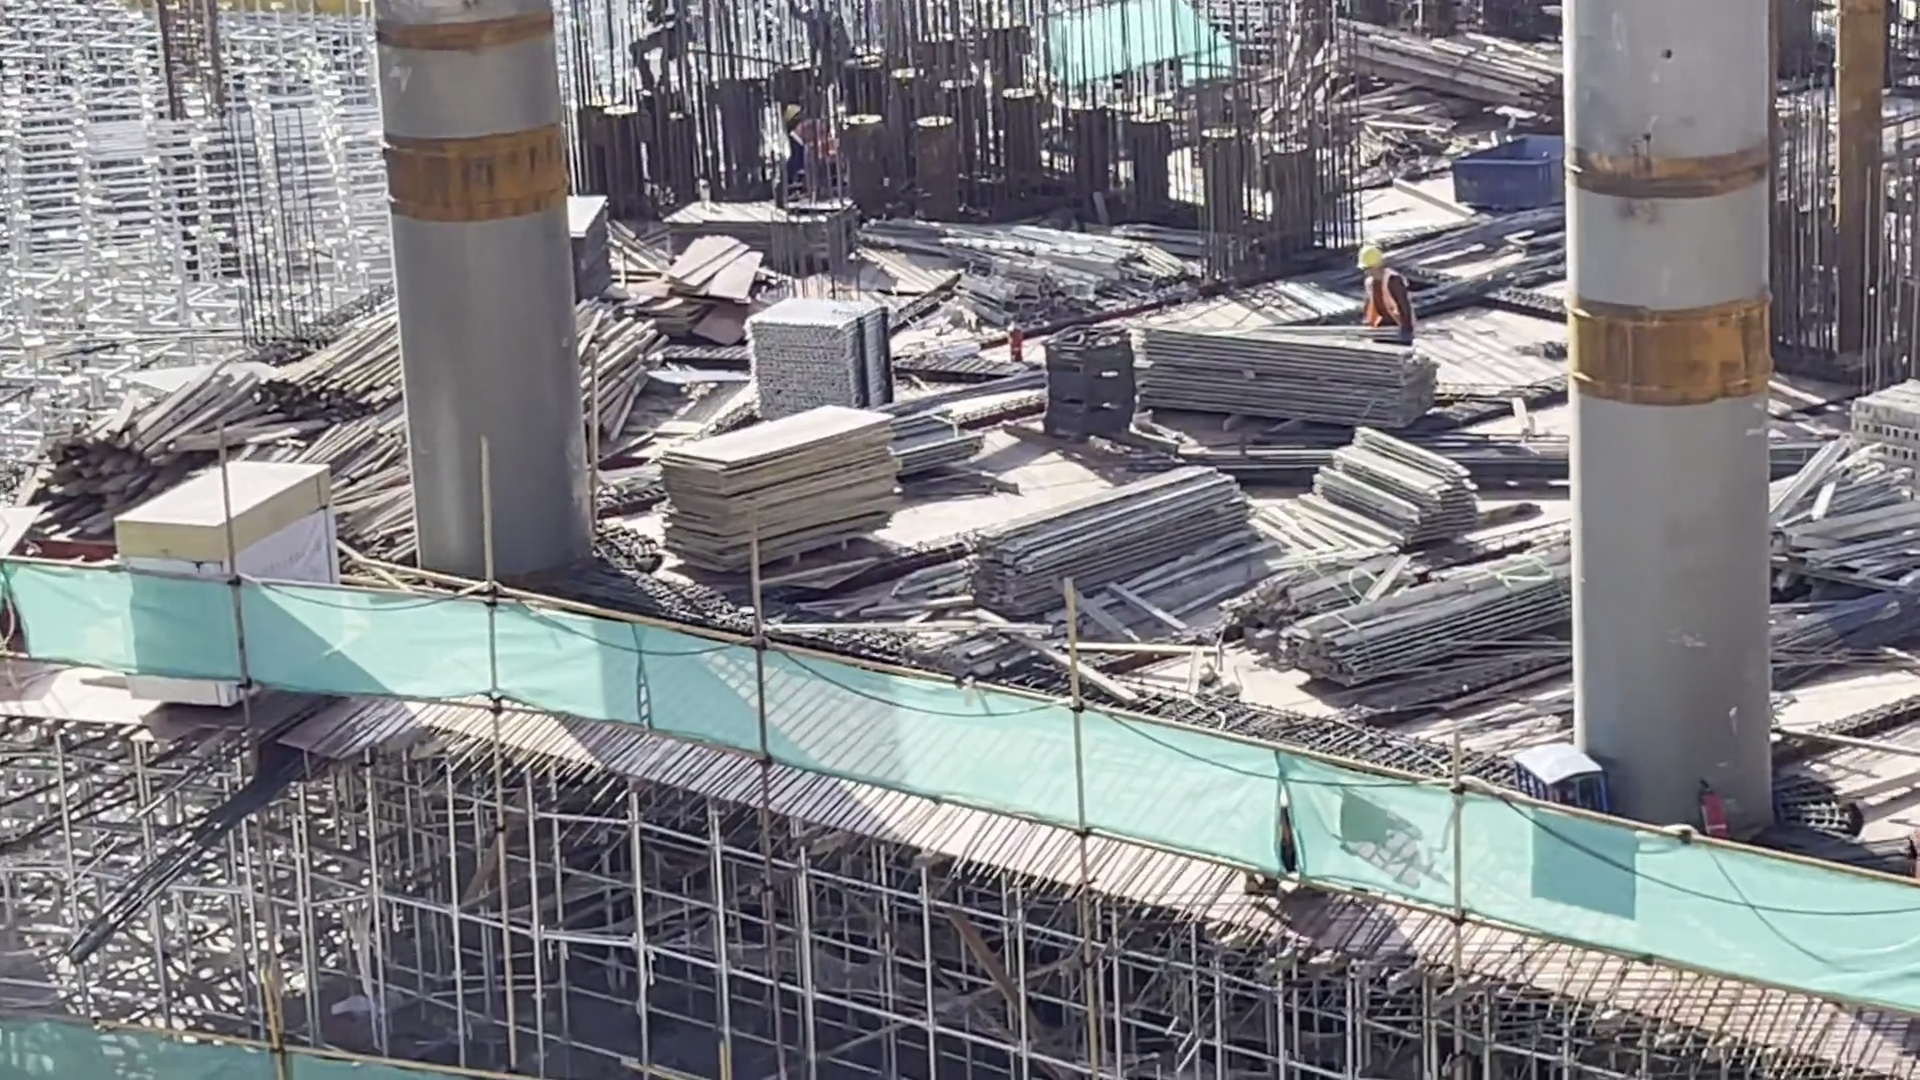board: (645, 417, 906, 563)
ebox: (112, 423, 351, 722)
helmet: (1356, 242, 1384, 271), (788, 98, 807, 127)
person: (1341, 230, 1429, 363), (756, 91, 849, 215)
scaffold: (741, 276, 895, 424)
vest: (1362, 268, 1410, 334)
wood: (1283, 537, 1592, 708), (963, 457, 1245, 611), (1125, 315, 1440, 431), (1304, 420, 1482, 553), (1444, 122, 1573, 212)
